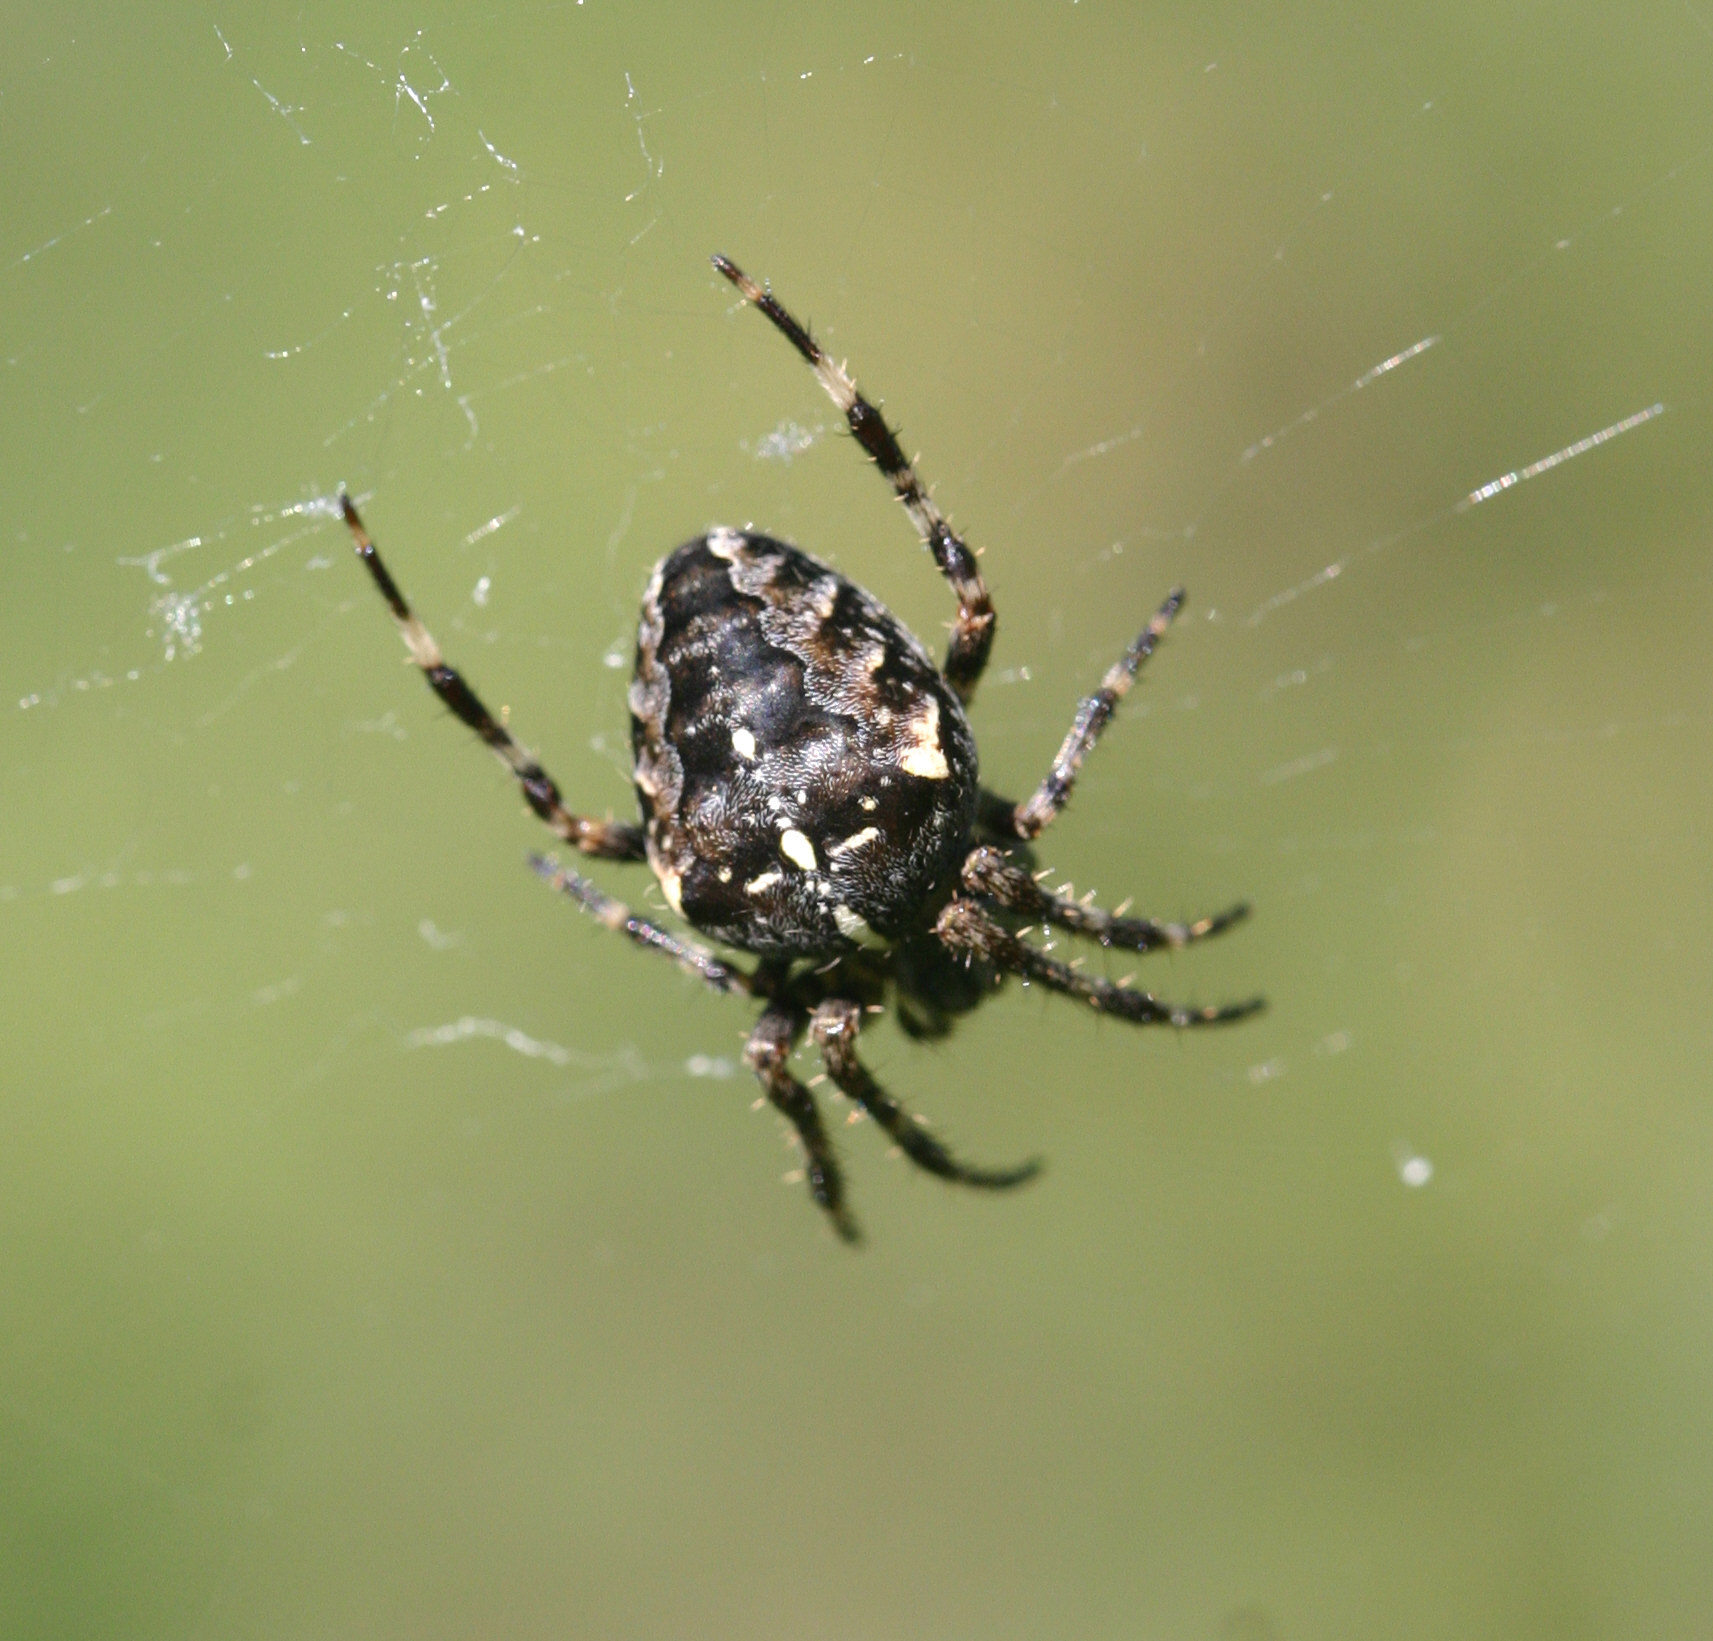spider: (281, 217, 1315, 1286)
